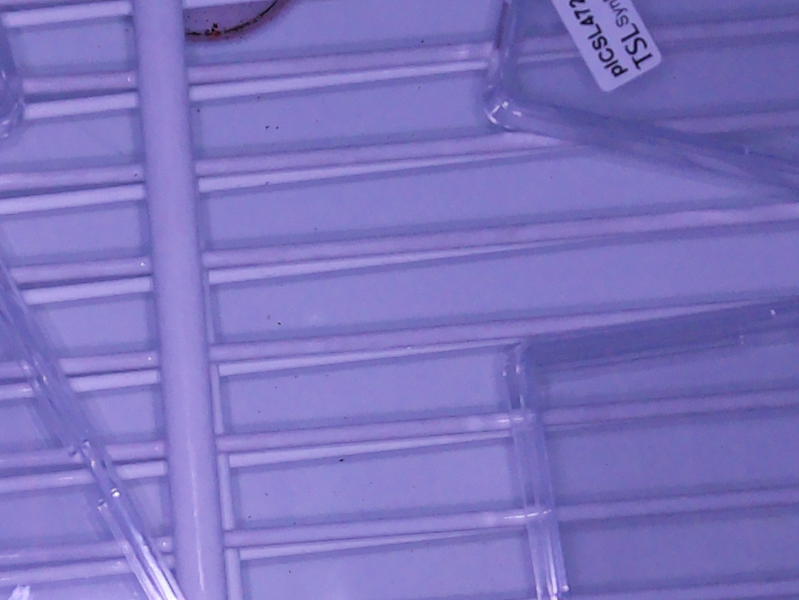plate: (502, 297, 799, 600), (1, 256, 189, 600), (483, 1, 799, 194), (1, 24, 26, 141)
